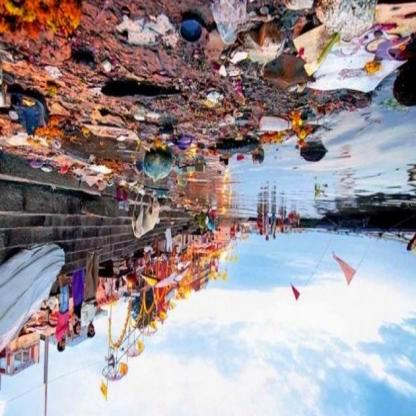Plastic: (212, 138, 263, 160), (260, 110, 294, 137)
Trash: (208, 2, 248, 41), (140, 149, 176, 184)
